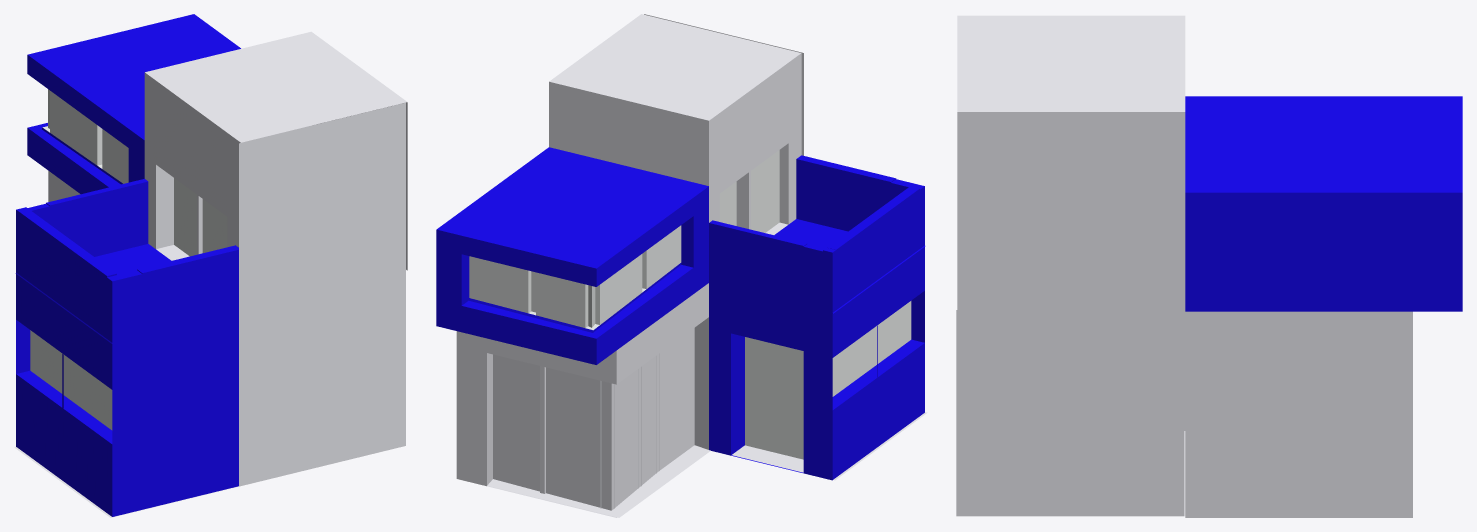
File: jose.glb
3 renders of one model, left to right at view 1: azimuth 30°, elevation 25°; view 2: azimuth 150°, elevation 25°; view 3: azimuth 270°, elevation 25°, orthographic. The views are drawn at different scales.
Visible parts, largest first — view 1: Cube.003, Cube, Cube.002, Cube.001, Cube.011, Cube.009, Cube.005, Cube.006, Cube.004; view 2: Cube.003, Cube.001, Cube.002, Cube.010, Cube.004, Cube.007, Cube.005, Cube, Cube.006, Cube.011, Cube.009; view 3: Cube.002, Cube.001, Cube, Cube.004.
Boxes of the visible parts, x1,y1,x2,y2 form: Cube.003: (15, 178, 238, 516); Cube: (14, 102, 405, 517); Cube.002: (144, 31, 407, 270); Cube.001: (27, 14, 240, 194); Cube.011: (30, 330, 112, 430); Cube.009: (174, 178, 227, 256); Cube.005: (42, 89, 102, 168); Cube.006: (102, 129, 128, 183); Cube.004: (48, 171, 80, 201); Cube.003: (709, 155, 925, 480); Cube.001: (436, 147, 708, 364); Cube.002: (549, 14, 801, 234); Cube.010: (493, 328, 694, 507); Cube.004: (456, 283, 708, 517); Cube.007: (745, 337, 803, 459); Cube.005: (528, 250, 646, 330); Cube: (487, 14, 927, 517); Cube.006: (469, 225, 681, 313); Cube.011: (832, 301, 911, 396); Cube.009: (719, 150, 779, 232); Cube.002: (957, 15, 1185, 311); Cube.001: (1185, 96, 1462, 311); Cube: (956, 310, 1185, 516); Cube.004: (1185, 311, 1412, 517).
Bounding box in the file's own units: 12.11 × 13.48 × 15.08.
